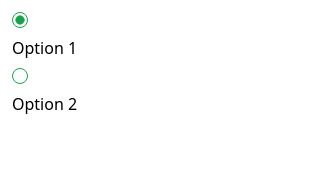
RadioGroup › should change selection when clicked
Click the 2nd radio button named "Option 2".
click(20, 76)  # box [12,68,28,84]
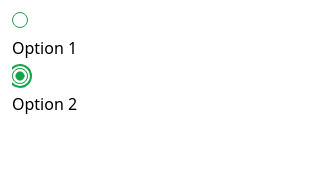
Now the 2nd radio button named "Option 2" is checked, box [12,68,28,84]
Now the 1st radio button named "Option 1" is not checked, box [12,12,28,28]
